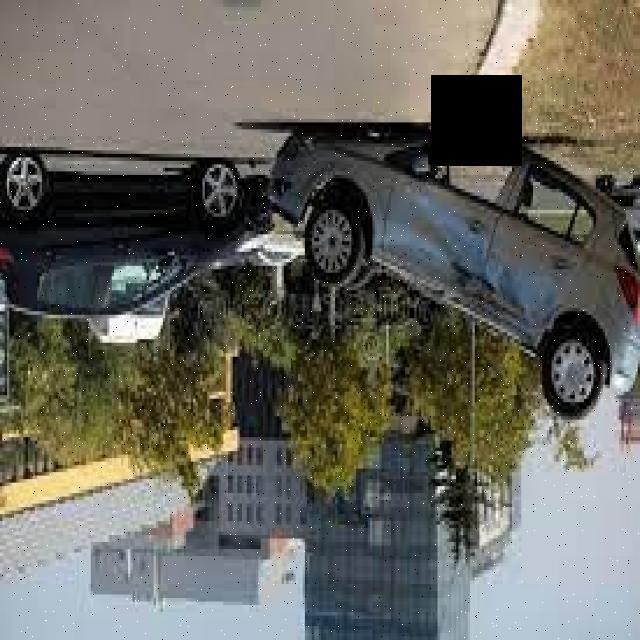severe: (267, 124, 640, 425)
